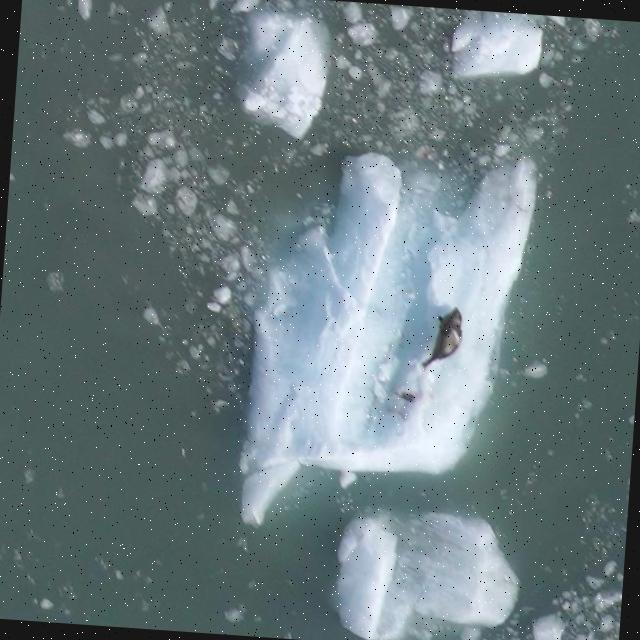seal: (419, 301, 469, 377)
